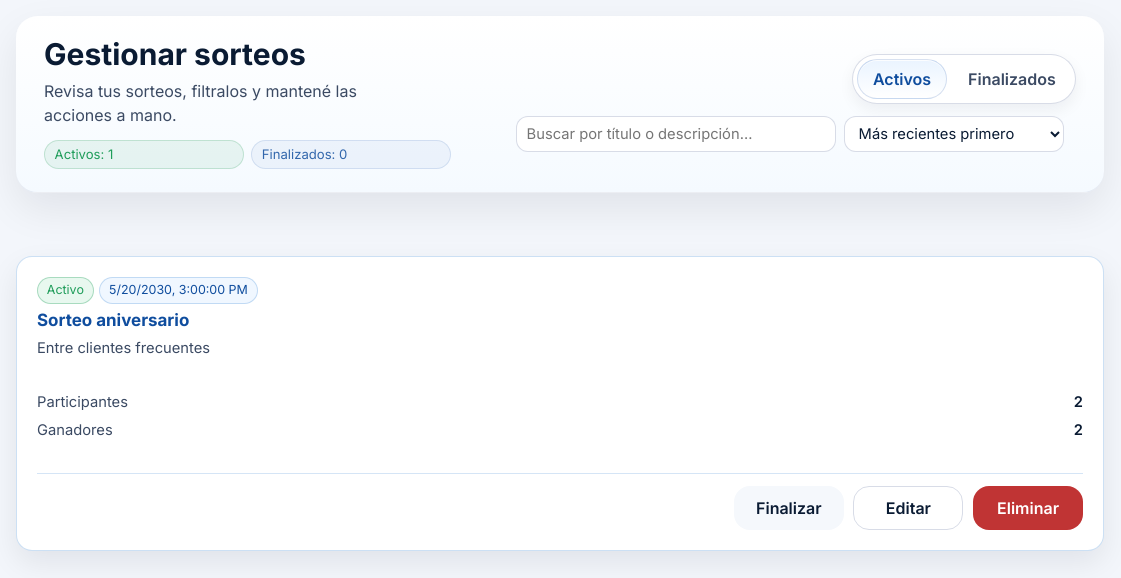
ManageRaffles › expone la grilla de sorteos con roles accesibles y etiquetas dinámicas
Check: the number of list items is 1, box [16,256,1104,552]
What coordinates should you click on to do the following:
click the button "Finalizados"
I would click on:
 (1012, 79)
Its box is [953,59,1071,99].
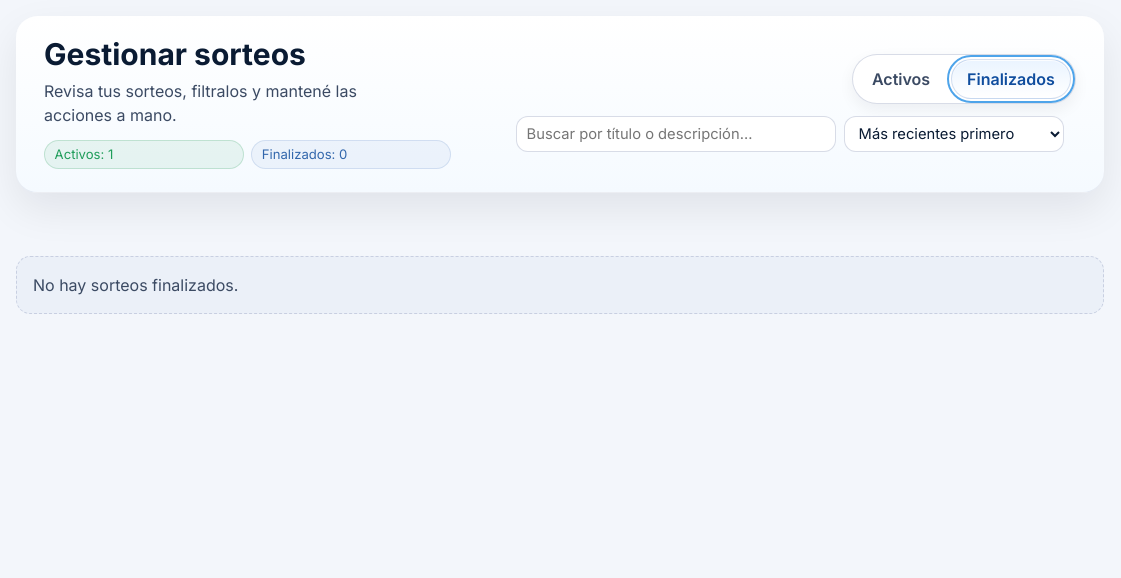
Check: no list items are shown
Check: the text "No hay sorteos finalizados." is shown, box [16,256,1104,314]
